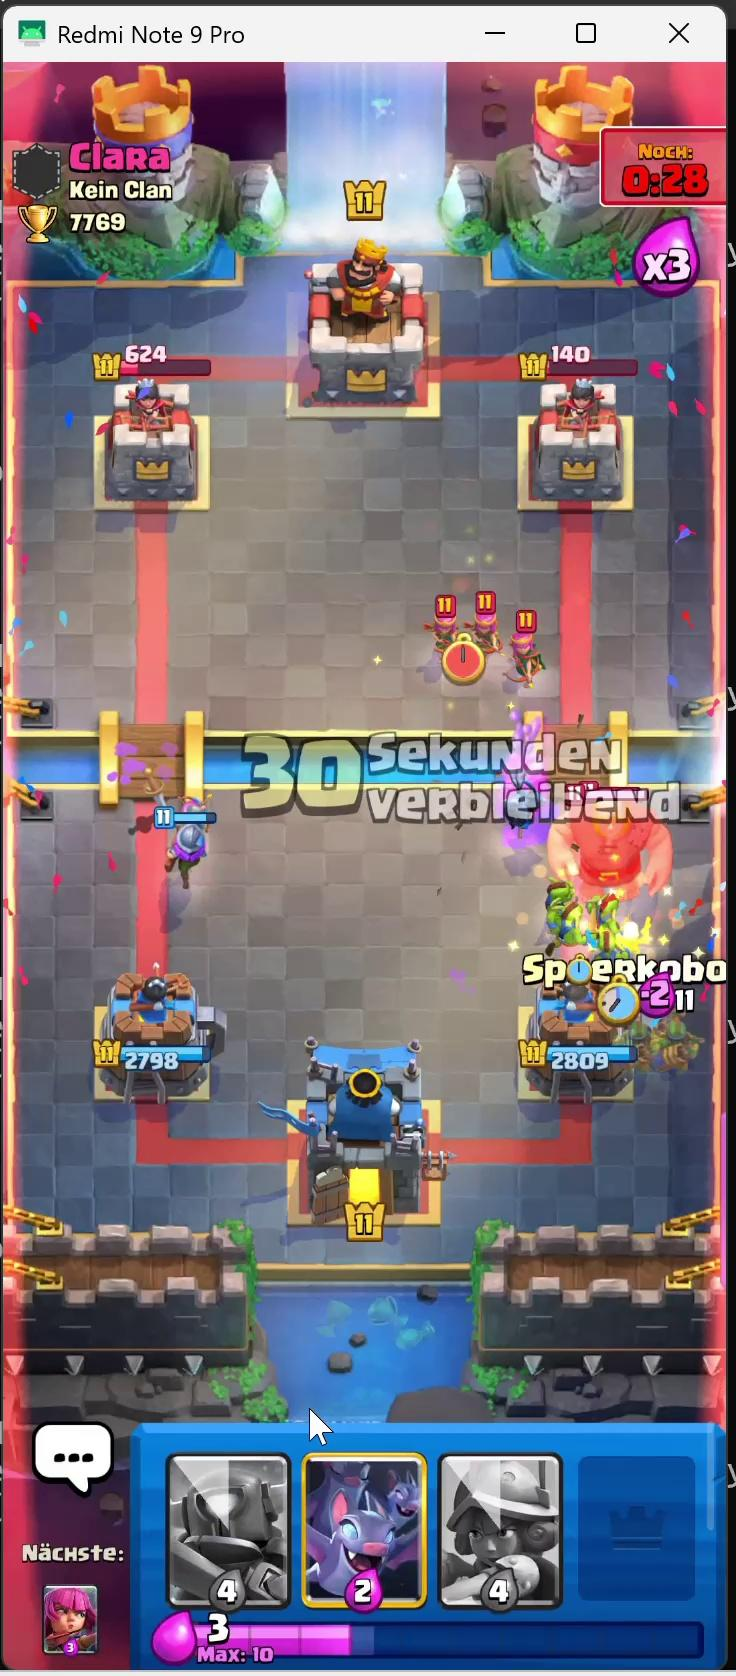archere: (464, 604, 504, 669), (166, 792, 210, 834), (421, 608, 461, 654), (510, 625, 541, 683)
gargouille: (501, 778, 530, 820)
geant: (553, 795, 672, 911)
gobelin: (549, 914, 588, 953), (591, 930, 626, 971), (549, 880, 577, 922), (591, 889, 615, 930)
mousquetaire: (162, 827, 226, 874)
squelette: (617, 915, 653, 955)
